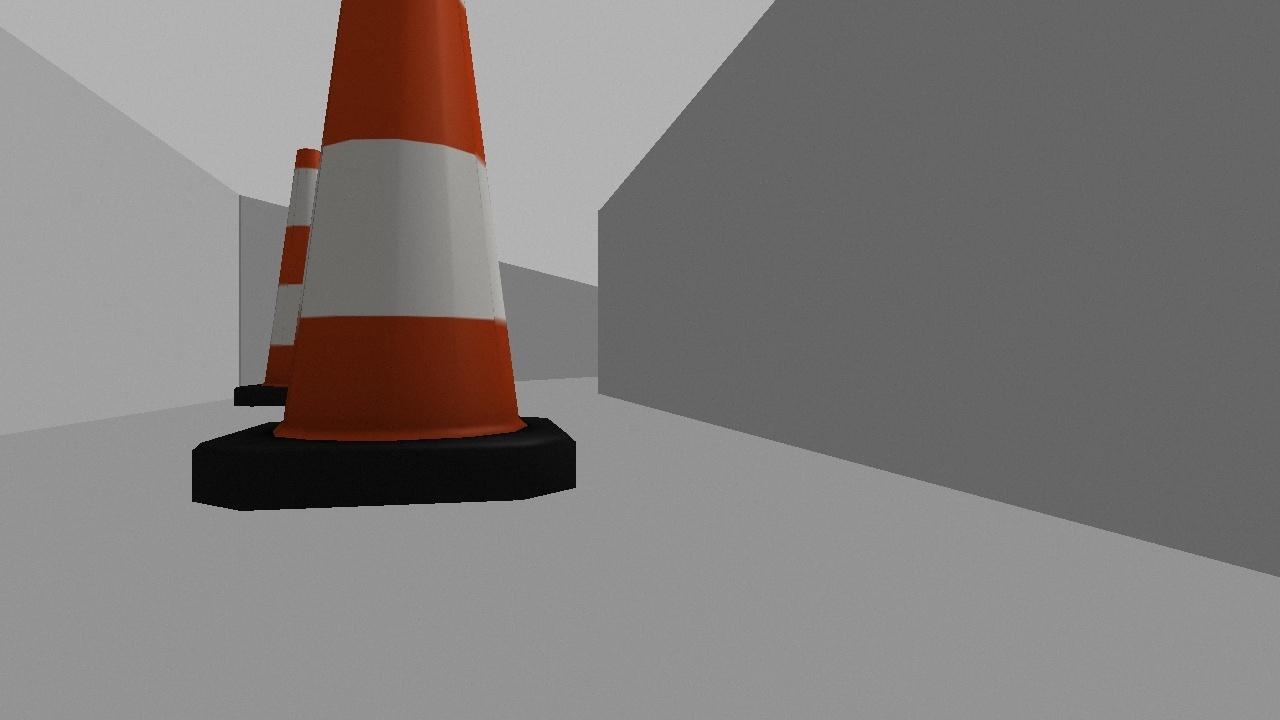cone_barrel: (173, 0, 597, 516), (220, 138, 370, 410)
